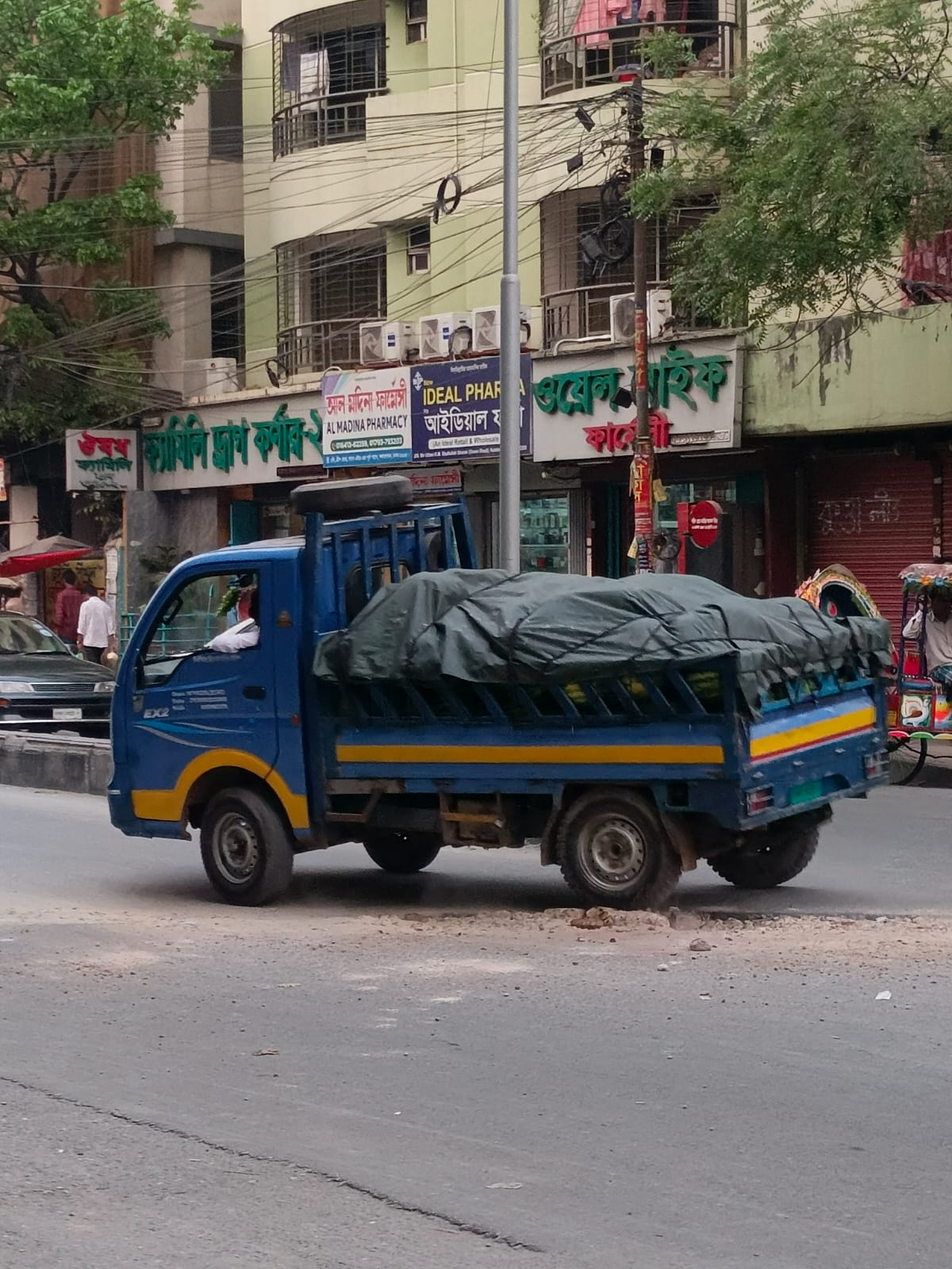Pickup: (99, 489, 891, 906)
